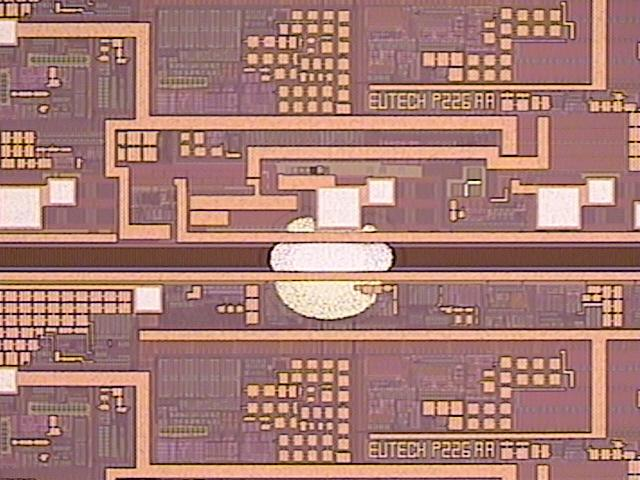BLOCK ETCH: (256, 189, 408, 341)
